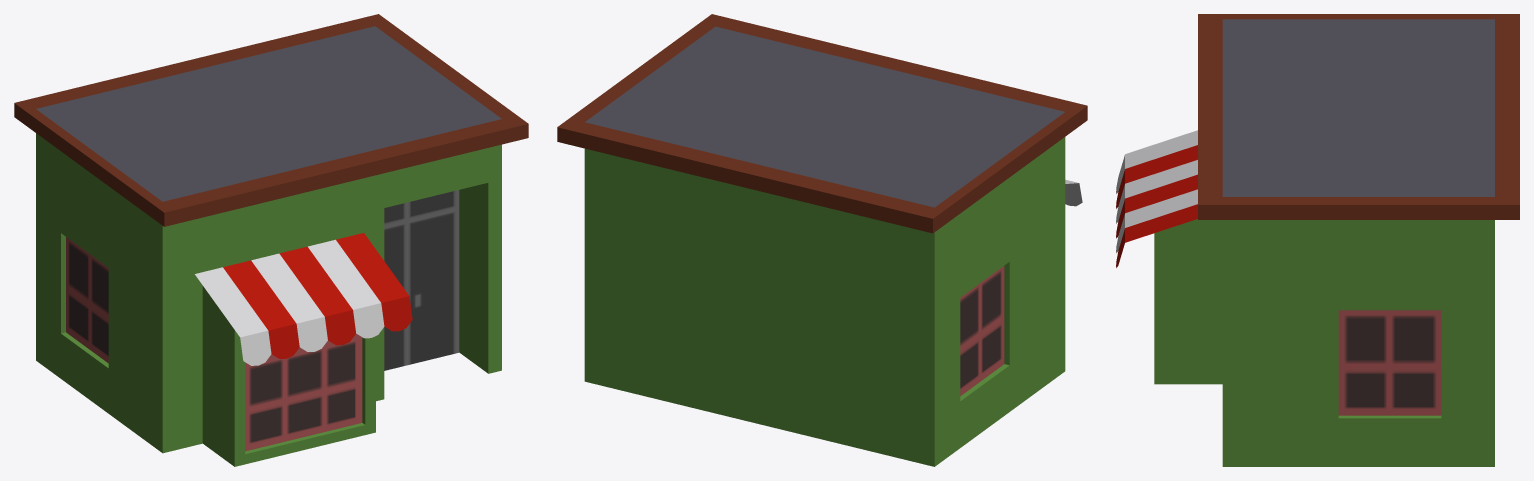
File: building8b.FBX
The picture shows the model from 3 angles, left to right: view 1: azimuth 30°, elevation 25°; view 2: azimuth 150°, elevation 25°; view 3: azimuth 270°, elevation 25°; orthographic projection. The views are drawn at different scales.
Parts seen in each view (by area): view 1: building8b; view 2: building8b; view 3: building8b.
Boxes of the visible parts, bbox=[...] form: building8b: bbox=[14, 14, 528, 466]; building8b: bbox=[557, 14, 1087, 466]; building8b: bbox=[1116, 14, 1519, 466].
Bounding box in the file's own units: 12.91 × 8.52 × 11.55.
